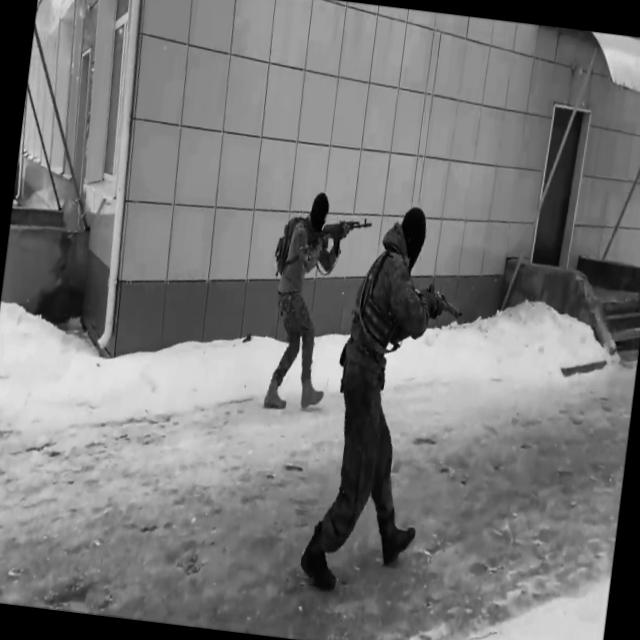gun: (304, 210, 372, 260), (408, 280, 466, 322)
person with a gun: (296, 198, 474, 604), (256, 187, 374, 418)
